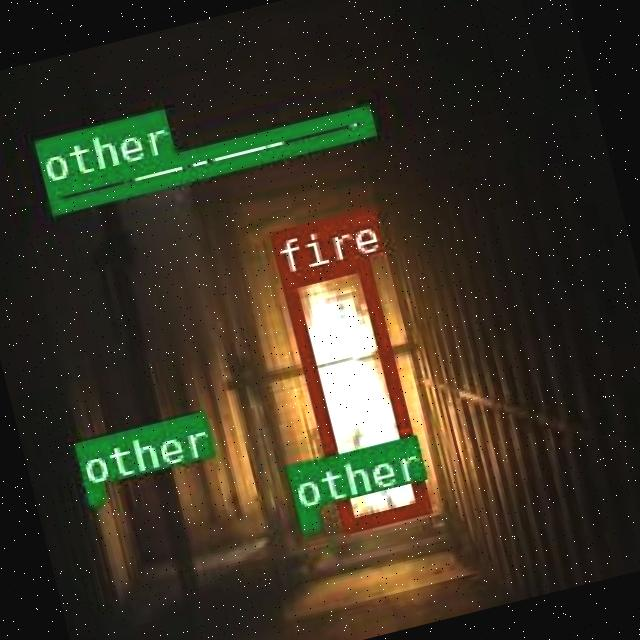fire: (278, 254, 428, 532)
